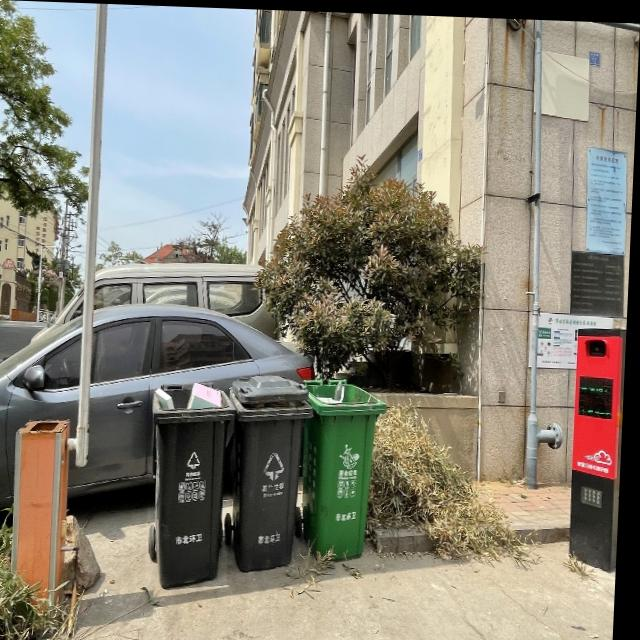overflow: (150, 376, 239, 590), (226, 371, 319, 571), (301, 372, 392, 562)
